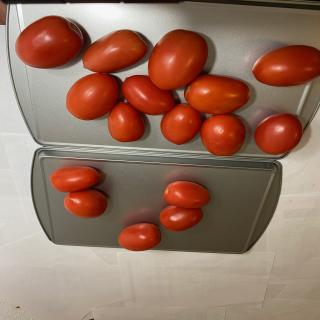Tomato: (15, 15, 84, 69), (148, 29, 208, 90), (82, 29, 148, 73), (252, 45, 320, 87), (184, 74, 250, 114), (66, 73, 119, 121), (122, 74, 174, 116), (254, 113, 303, 155), (200, 114, 246, 156), (160, 104, 202, 146), (108, 101, 146, 142), (63, 189, 108, 219), (163, 180, 211, 208), (50, 166, 100, 192), (118, 223, 162, 251), (159, 205, 203, 232)
